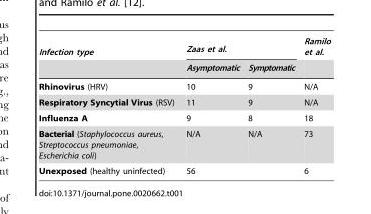table: (37, 36, 331, 175)
table column: (37, 36, 179, 175), (179, 36, 243, 175), (243, 36, 299, 175), (299, 36, 331, 175)
table column header: (37, 36, 331, 77)
table row: (37, 125, 331, 162), (37, 36, 331, 59), (37, 59, 331, 77), (37, 77, 331, 94), (37, 94, 331, 110), (37, 110, 331, 125), (37, 162, 331, 175)
table spanning cell: (37, 36, 179, 77), (179, 36, 299, 59), (179, 162, 299, 175), (299, 36, 331, 77)
